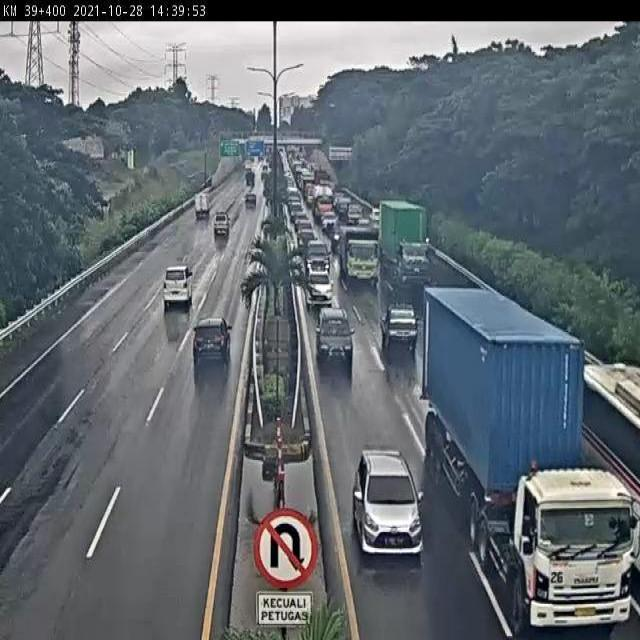car: (352, 451, 420, 551), (317, 307, 356, 361), (192, 317, 233, 364), (381, 303, 419, 351), (163, 267, 194, 308), (305, 271, 333, 309), (304, 239, 329, 269), (213, 209, 231, 236), (297, 230, 316, 250)
truck: (426, 287, 640, 636), (379, 203, 429, 281), (337, 224, 374, 277), (192, 191, 213, 223)
